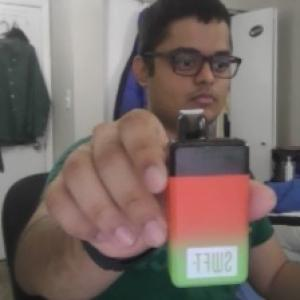Swift-E-Ciggirate: (168, 108, 254, 292)
